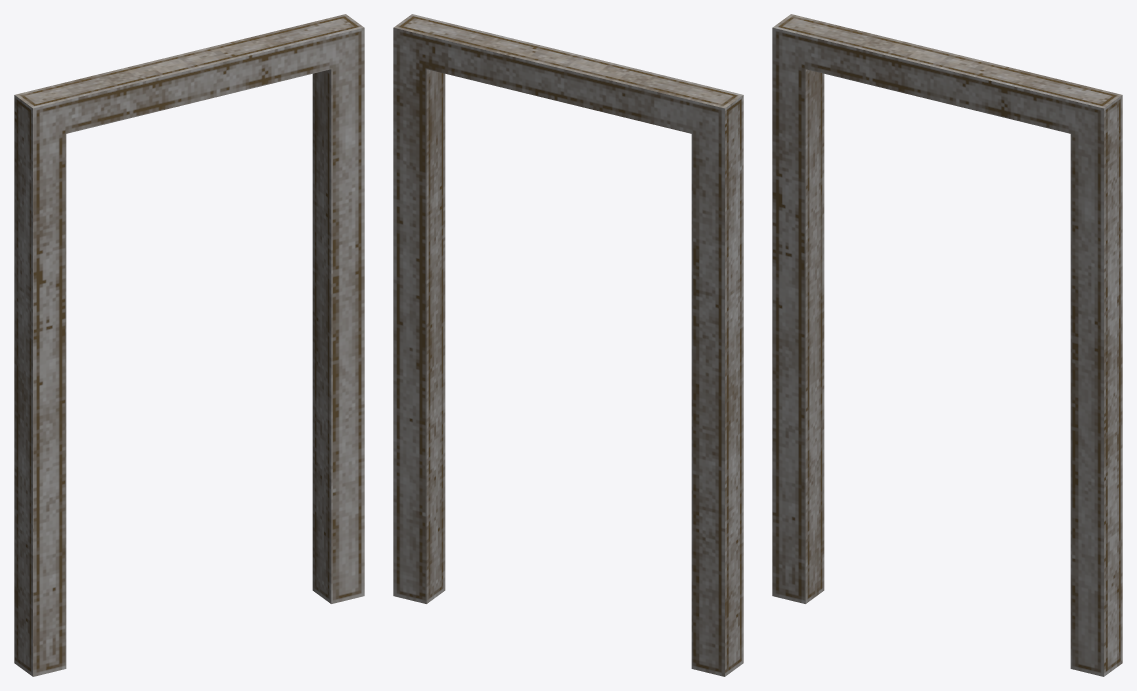
File: DoorFrame.fbx
3 renders of one model, left to right at view 1: azimuth 30°, elevation 25°; view 2: azimuth 150°, elevation 25°; view 3: azimuth 330°, elevation 25°, orthographic.
Visible parts, largest first — view 1: Cube.242; view 2: Cube.242; view 3: Cube.242.
Part boxes in pixels (x1=…): Cube.242: x1=14, y1=14, x2=364, y2=676; Cube.242: x1=393, y1=14, x2=743, y2=676; Cube.242: x1=772, y1=14, x2=1122, y2=676.
Size of the model in its own units: 11.88 by 122 by 200.
